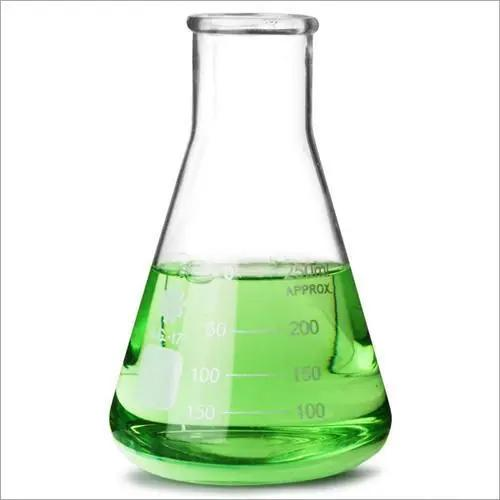Titrarion: (107, 18, 395, 479)
